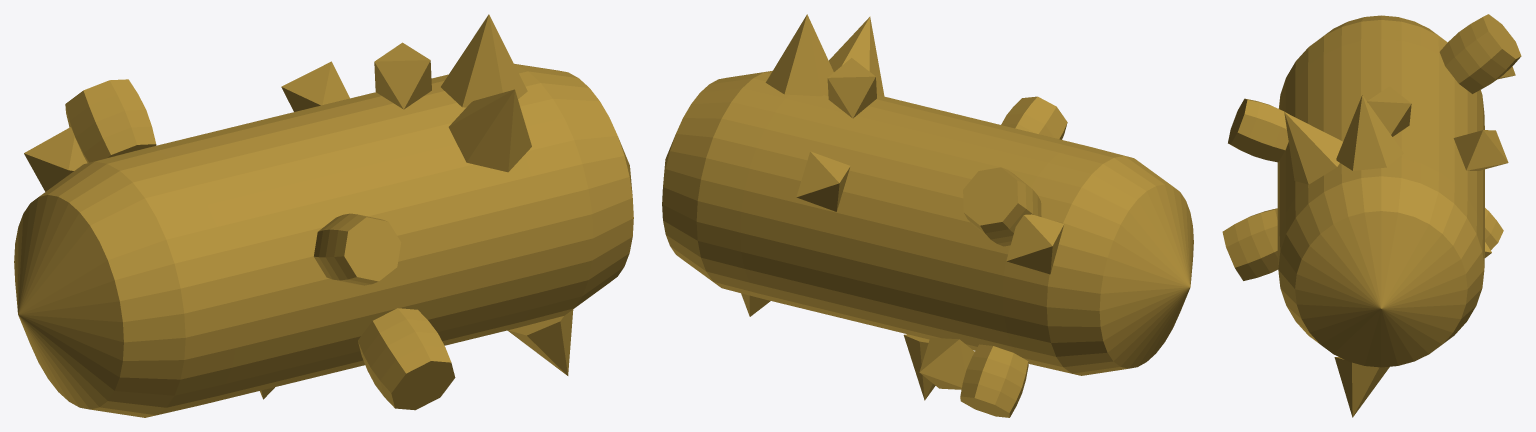
File: exp1_capsule_asym_03.glb
3 views of the same model, side by side, from view 1: azimuth 30°, elevation 25°; view 2: azimuth 150°, elevation 25°; view 3: azimuth 270°, elevation 25° (orthographic). The views are drawn at different scales.
Visible parts, largest first — view 1: exp1_capsule_asym_03; view 2: exp1_capsule_asym_03; view 3: exp1_capsule_asym_03.
Boxes of the visible parts, box(x1,y1,x2,y2) form: exp1_capsule_asym_03: box(14, 14, 633, 417); exp1_capsule_asym_03: box(662, 14, 1193, 417); exp1_capsule_asym_03: box(1222, 14, 1521, 417).
Size of the model in its own units: 3.48 by 2.04 by 1.88.
